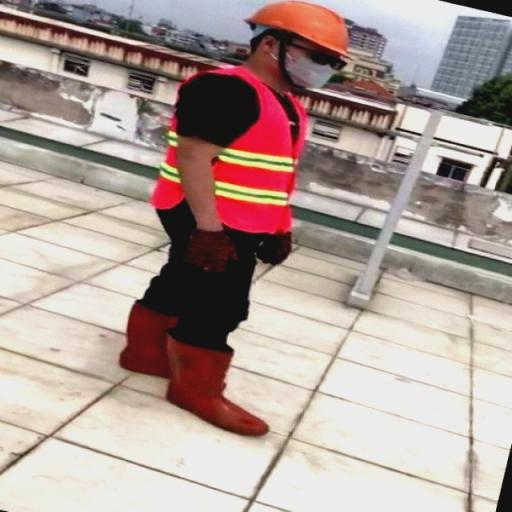Person: (106, 0, 381, 462)
boots: (152, 331, 295, 451), (100, 288, 204, 381)
gloves: (177, 222, 239, 280), (250, 222, 300, 280)
goggles: (259, 52, 359, 70)
helmet: (226, 3, 396, 51)
vest: (146, 66, 323, 239)
